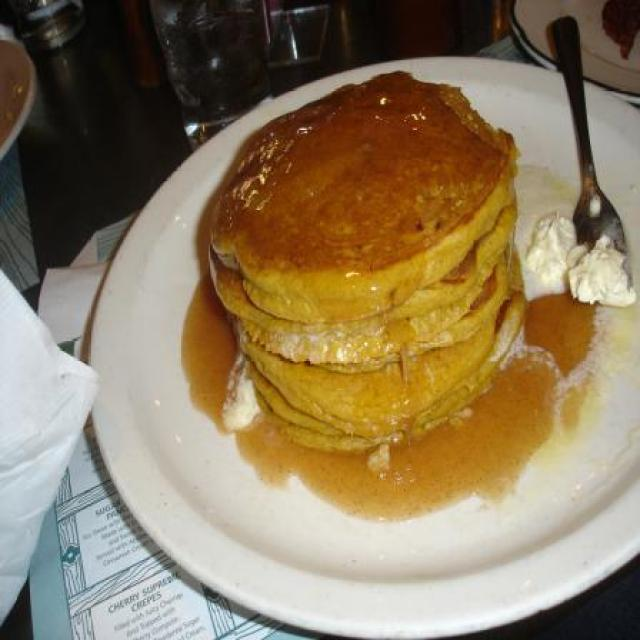Pancake: (210, 83, 514, 320)
